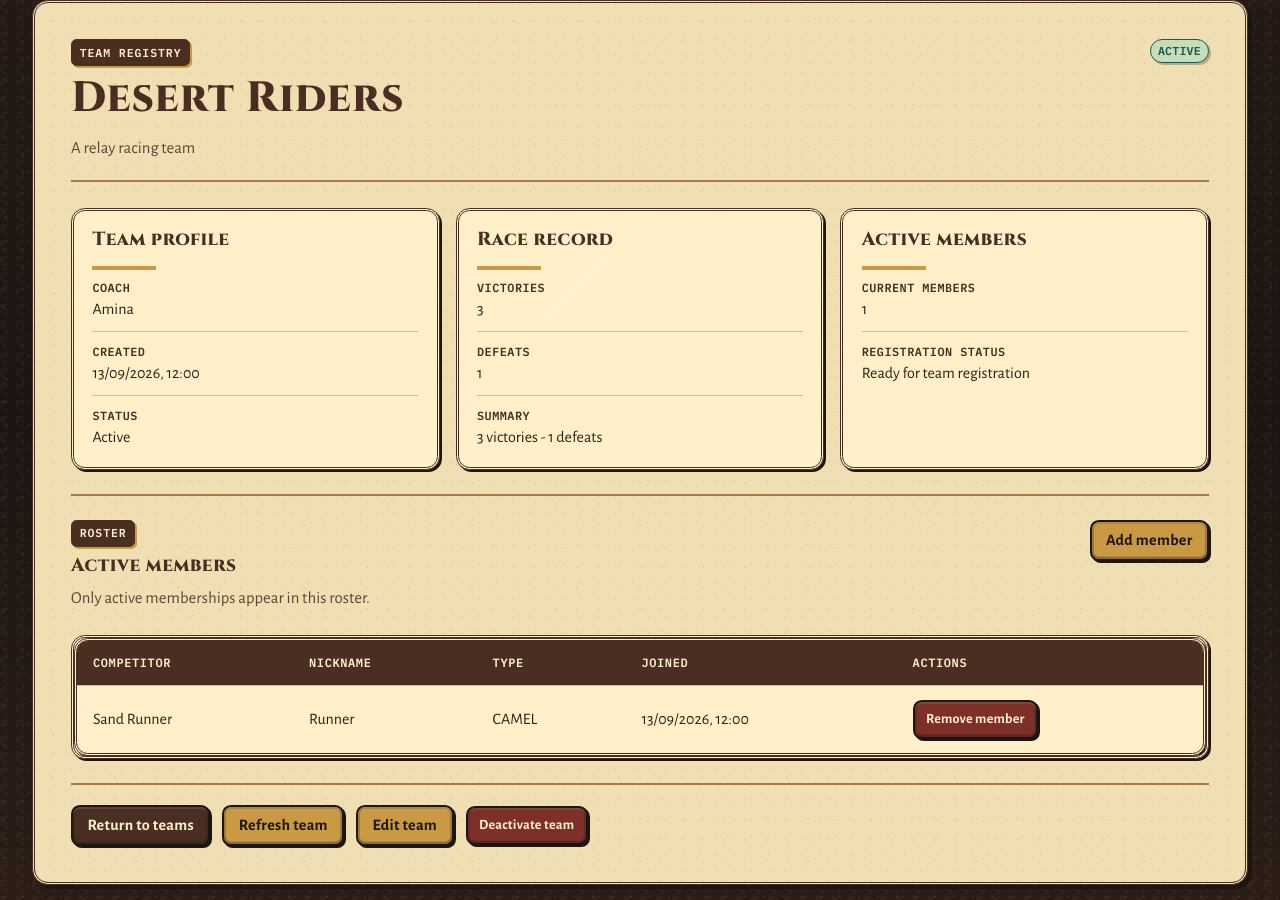
Test case: TeamDetailPage › removes a member after confirmation
This screenshot has width=1280, height=900.
Click the button "Remove member": (975, 720) [913, 700, 1038, 739]
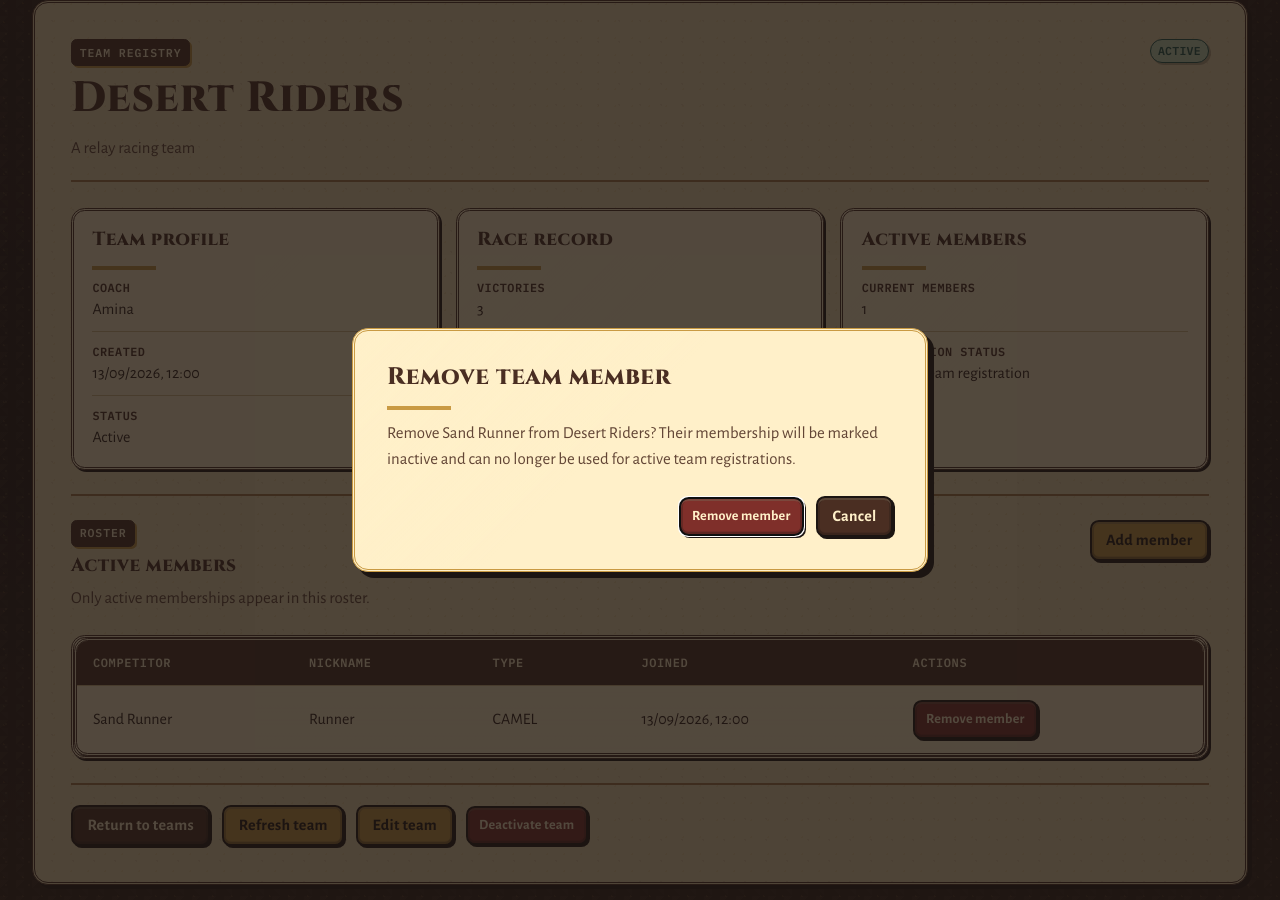
Click the button "Remove member": (741, 516) [678, 497, 804, 536]
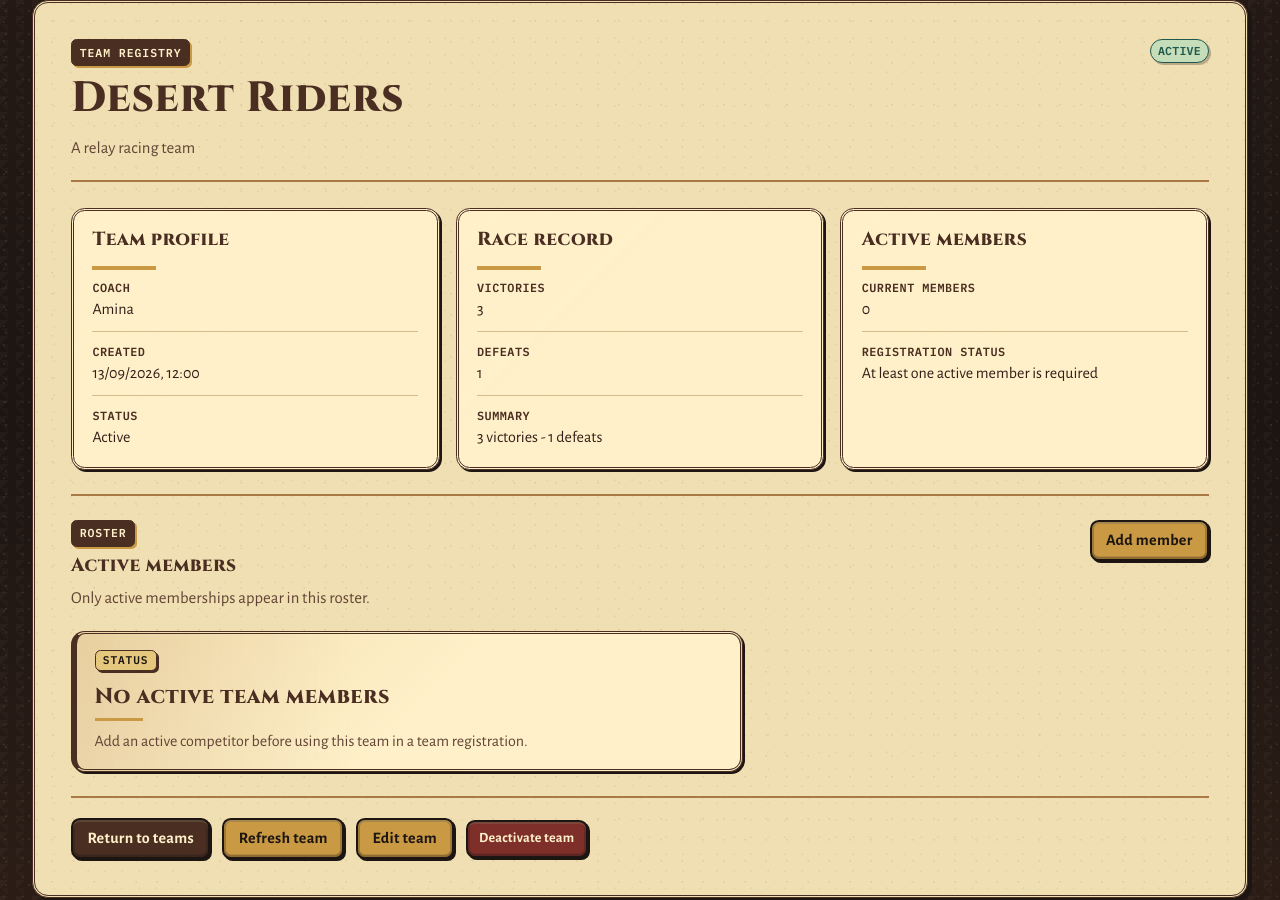
Expected: the text "Sand Runner" is gone
